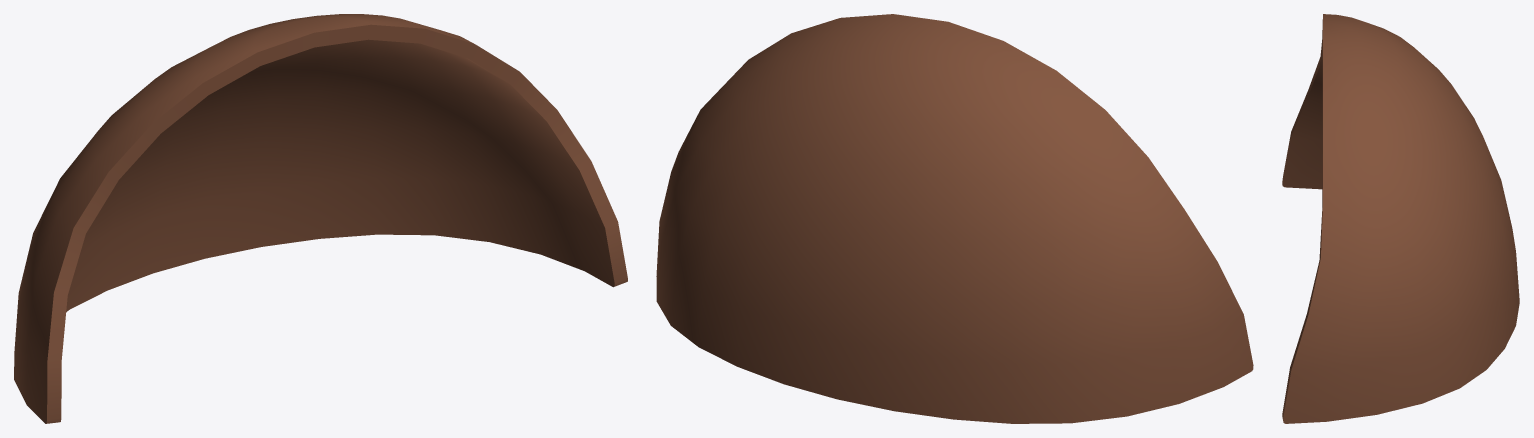
The model's file is shield.gltf.
3 views of the same model, side by side, from view 1: azimuth 30°, elevation 25°; view 2: azimuth 150°, elevation 25°; view 3: azimuth 270°, elevation 25° (orthographic). The views are drawn at different scales.
Visible parts, largest first — view 1: Sphere; view 2: Sphere; view 3: Sphere.
Part boxes in pixels (x1=…): Sphere: x1=14, y1=14, x2=627, y2=423; Sphere: x1=656, y1=14, x2=1253, y2=423; Sphere: x1=1282, y1=14, x2=1519, y2=423.
Bounding box in the file's own units: 5.99 × 3.01 × 2.47.
